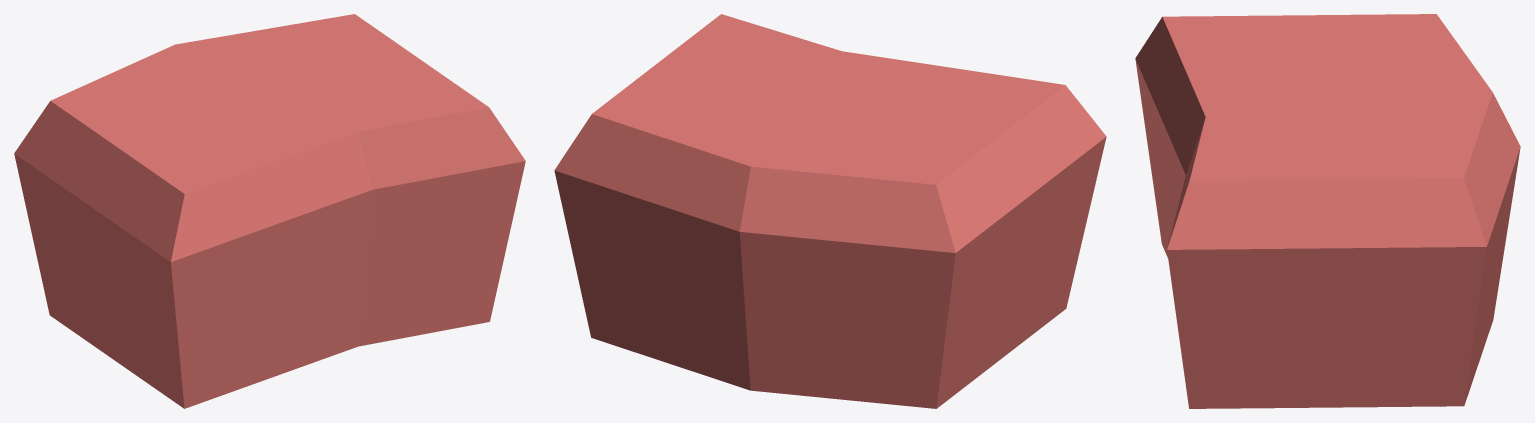
Rendered from RockType6 04.fbx.
The picture shows the model from 3 angles, left to right: view 1: azimuth 30°, elevation 25°; view 2: azimuth 150°, elevation 25°; view 3: azimuth 270°, elevation 25°; orthographic projection. The views are drawn at different scales.
Parts seen in each view (by area): view 1: Rock Type6 04 mesh; view 2: Rock Type6 04 mesh; view 3: Rock Type6 04 mesh.
Part boxes in pixels (x1=…): Rock Type6 04 mesh: x1=14, y1=14, x2=525, y2=408; Rock Type6 04 mesh: x1=554, y1=14, x2=1106, y2=408; Rock Type6 04 mesh: x1=1135, y1=14, x2=1520, y2=408.
Bounding box in the file's own units: 79.52 × 43.37 × 66.51.
